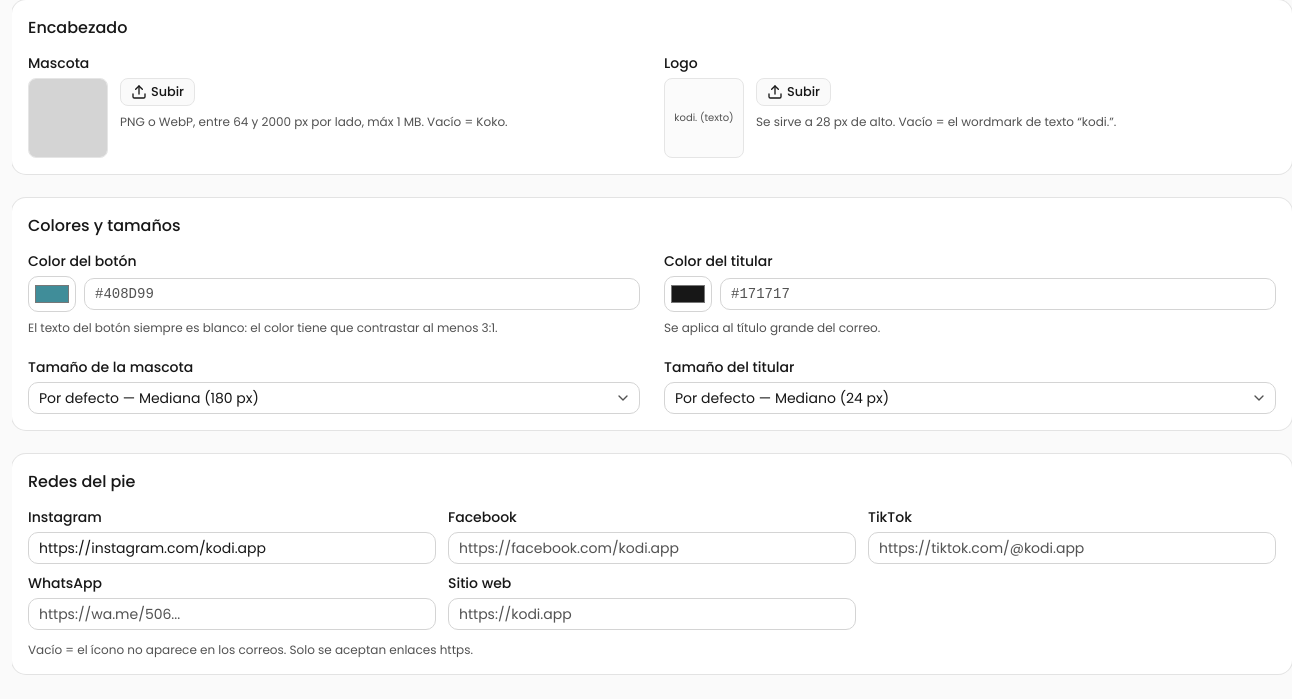
Test: BrandManager › bloquea el guardado con un color de botón sin contraste y dice por qué
The width and height of the screenshot is (1292, 699).
Type "#FFE066" into the field named "Color del botón — código hex".
click(362, 294); type("#FFE066")  # box x1=84 y1=278 x2=640 y2=310
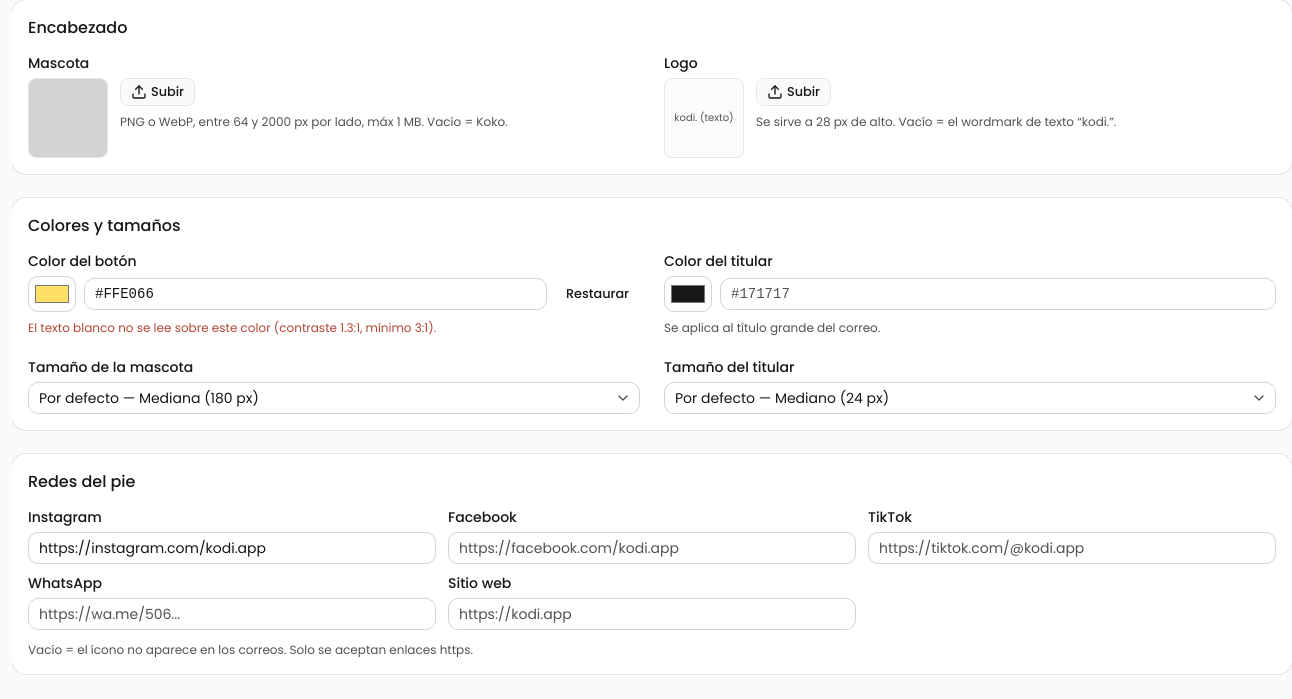
Expected: the text "no se lee sobre este color" is shown, x1=28 y1=319 x2=436 y2=336
